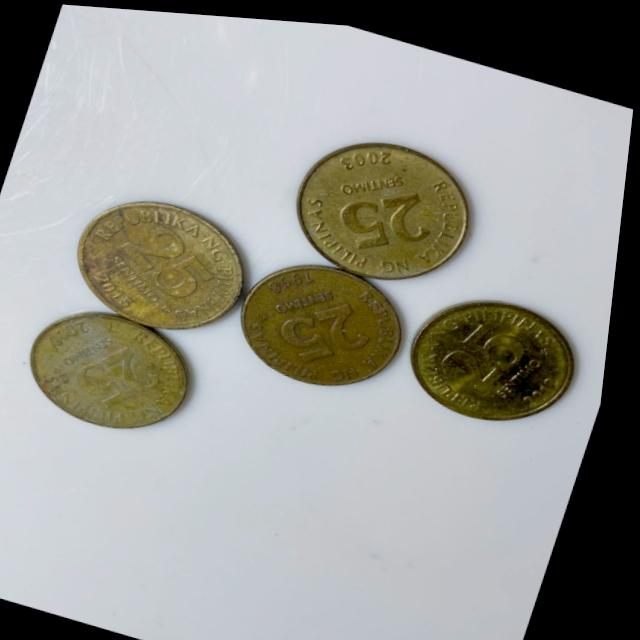25Cent_Old_Front: (269, 278, 392, 377), (330, 165, 454, 262), (117, 216, 225, 301), (448, 308, 543, 395), (74, 340, 171, 415)
